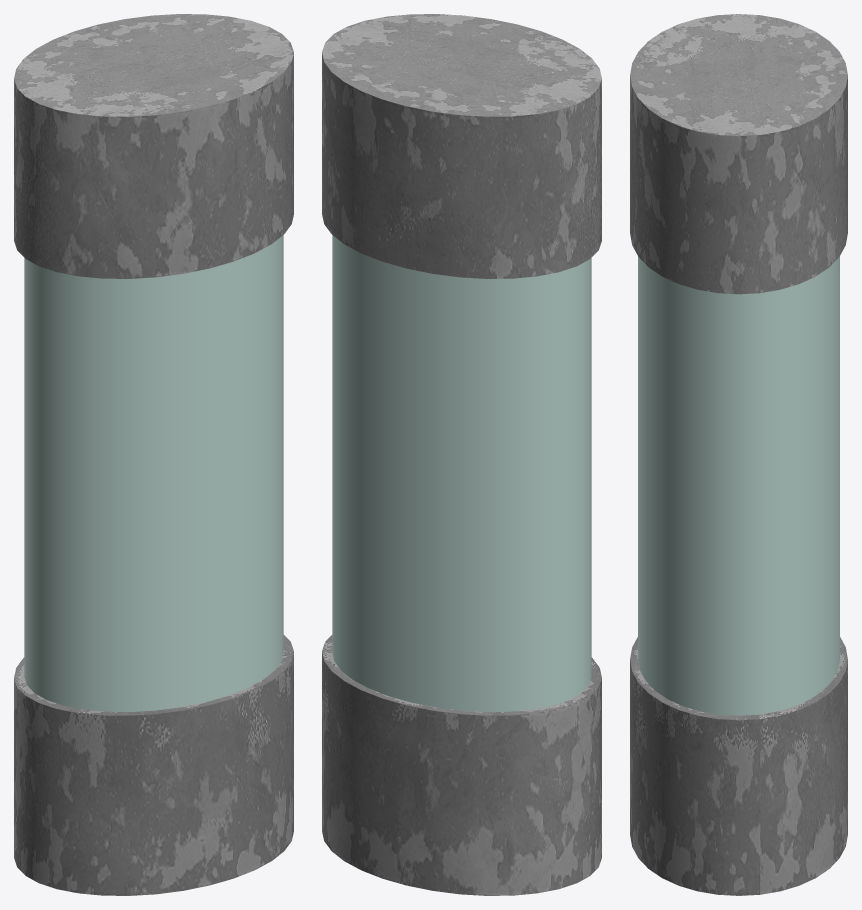
Rendered from fuse (1).fbx.
3 renders of one model, left to right at view 1: azimuth 30°, elevation 25°; view 2: azimuth 150°, elevation 25°; view 3: azimuth 270°, elevation 25°, orthographic. The views are drawn at different scales.
Visible parts, largest first — view 1: Cylinder.001, Cylinder.002; view 2: Cylinder.001, Cylinder.002; view 3: Cylinder.001, Cylinder.002.
Part boxes in pixels (x1,y1,x2,y2): Cylinder.001: [14, 14, 293, 895]; Cylinder.002: [24, 235, 283, 711]; Cylinder.001: [322, 14, 601, 895]; Cylinder.002: [332, 235, 591, 711]; Cylinder.001: [630, 14, 847, 895]; Cylinder.002: [638, 256, 839, 715].
Size of the model in its own units: 3.96 by 11.48 by 2.98.
2 materials, 2 textured.
